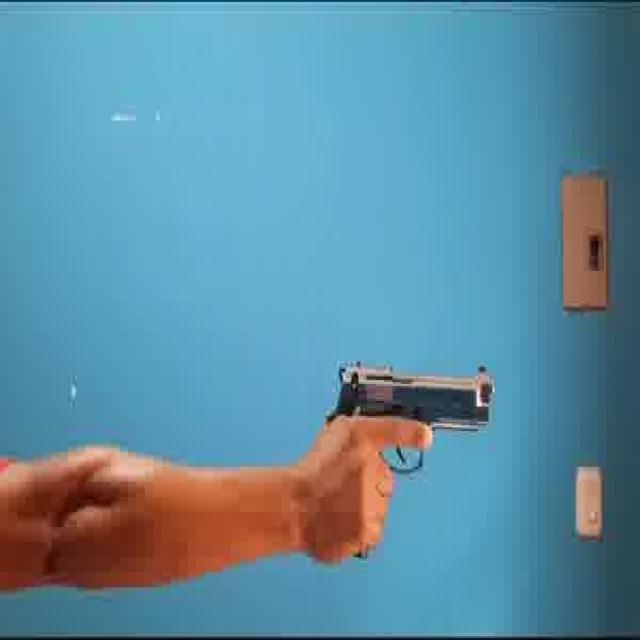weapon: (322, 359, 496, 566)
